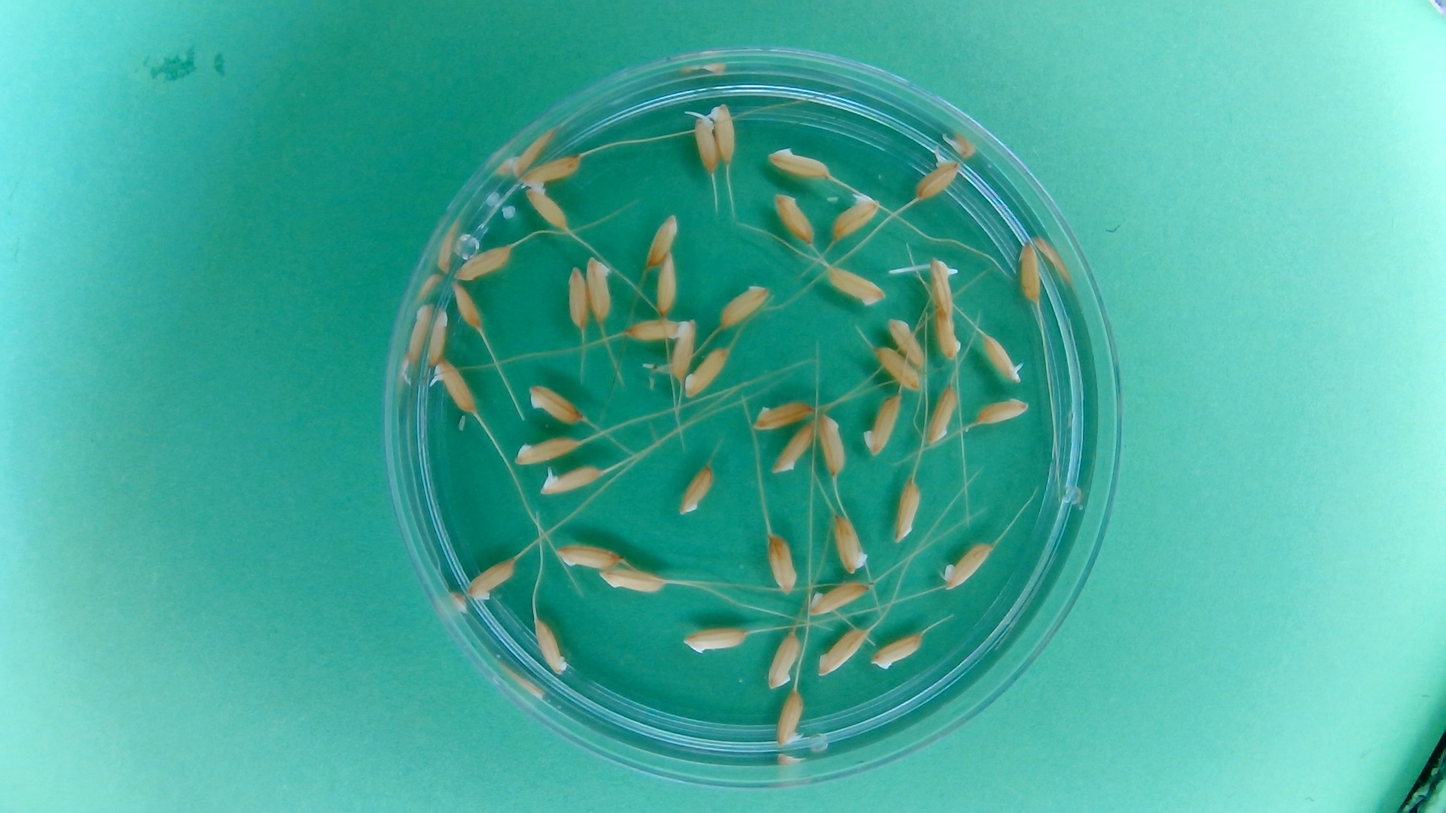no: (816, 625, 870, 678), (682, 343, 731, 400), (862, 391, 904, 456), (941, 540, 994, 591), (716, 282, 772, 330), (770, 419, 816, 477), (825, 265, 886, 308), (829, 191, 880, 242), (872, 343, 923, 393), (526, 382, 585, 425), (830, 512, 870, 575), (771, 190, 816, 246), (452, 242, 514, 282), (764, 145, 832, 181), (465, 557, 518, 603), (807, 579, 871, 617), (925, 382, 962, 447), (532, 614, 570, 677), (764, 626, 801, 690), (665, 316, 699, 385), (870, 630, 926, 671), (886, 315, 928, 369), (520, 154, 581, 191), (764, 531, 798, 595), (523, 184, 570, 230), (644, 211, 681, 269), (750, 398, 814, 431), (513, 435, 581, 466), (892, 477, 923, 544), (584, 254, 614, 323), (677, 462, 715, 516), (816, 410, 847, 476), (597, 566, 667, 595), (554, 541, 624, 570), (1014, 237, 1044, 304), (681, 626, 749, 654), (450, 279, 485, 331), (625, 316, 688, 343), (973, 397, 1031, 426), (424, 306, 450, 369), (654, 253, 679, 318), (564, 263, 588, 330), (934, 306, 962, 360)
yes: (430, 357, 478, 413), (913, 154, 962, 202), (981, 332, 1024, 385), (537, 463, 604, 497), (773, 688, 806, 748), (709, 100, 739, 165), (689, 114, 720, 174), (927, 257, 959, 311)
